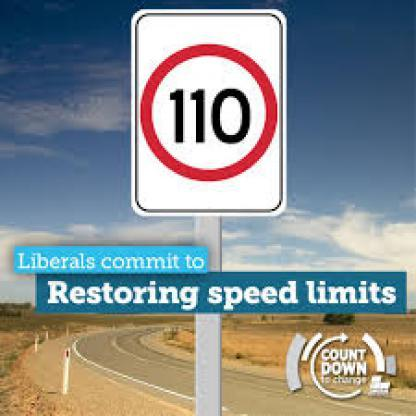Speed Limit 110: (140, 44, 278, 180)
